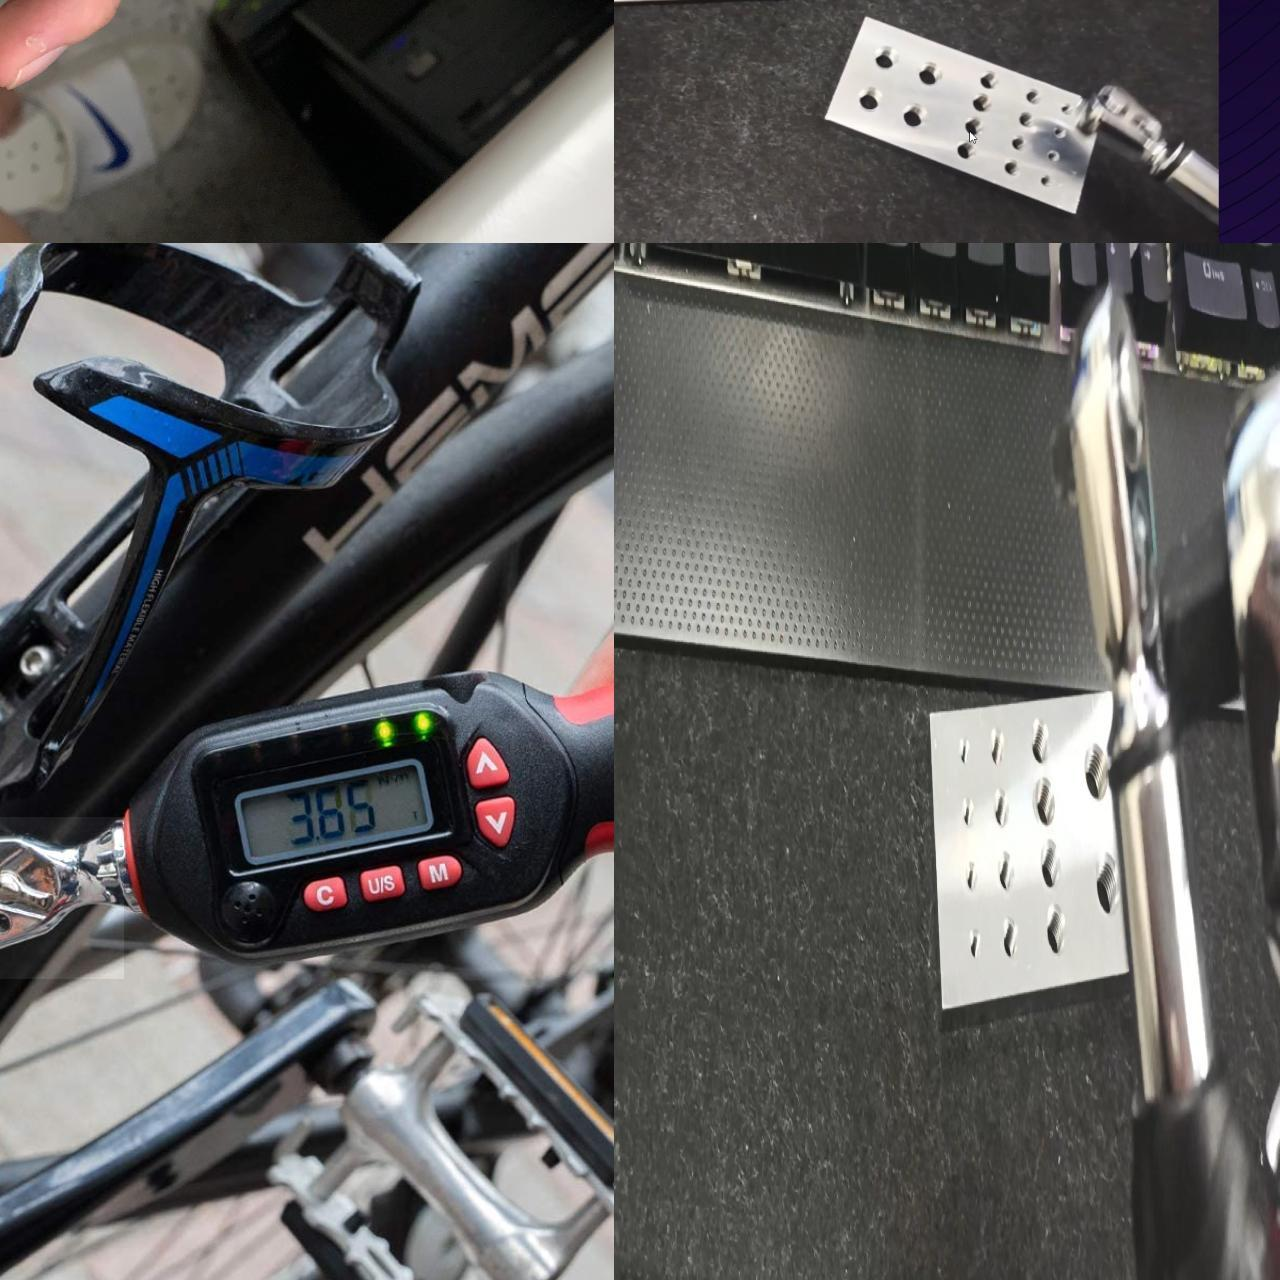Tool: (0, 818, 121, 980)
hole: (1089, 851, 1121, 917), (1085, 743, 1112, 798), (1037, 835, 1062, 889), (1025, 719, 1053, 767), (1034, 775, 1057, 826), (1045, 902, 1066, 956), (856, 84, 884, 118), (915, 58, 945, 87), (898, 101, 927, 131), (992, 782, 1011, 827), (996, 851, 1016, 892), (871, 44, 898, 74), (999, 920, 1020, 956), (960, 793, 978, 831), (989, 727, 1006, 766), (965, 929, 985, 958), (971, 91, 994, 115), (963, 860, 979, 893), (953, 140, 977, 161), (955, 740, 973, 768), (977, 69, 998, 90), (1024, 88, 1044, 108), (1016, 109, 1035, 130), (964, 116, 983, 136), (1002, 157, 1021, 177), (1038, 170, 1053, 190), (1013, 136, 1030, 153), (1056, 101, 1072, 119), (1046, 147, 1061, 166), (1054, 126, 1067, 141)
